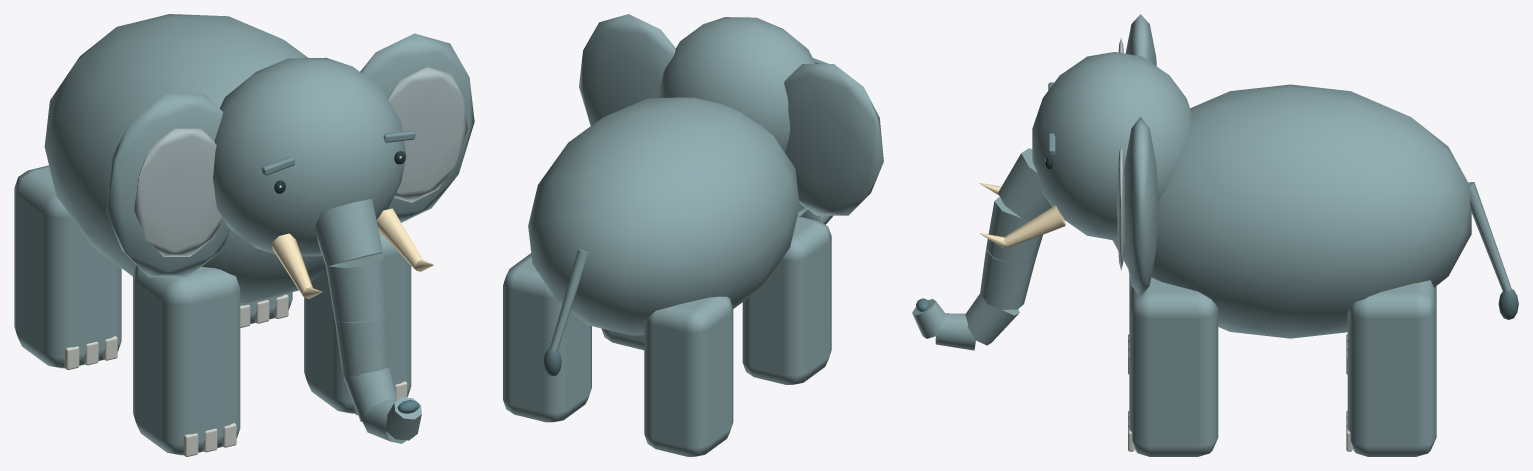
Rendered from elephant.glb.
3 renders of one model, left to right at view 1: azimuth 30°, elevation 25°; view 2: azimuth 150°, elevation 25°; view 3: azimuth 270°, elevation 25°, orthographic. The views are drawn at different scales.
Parts seen in each view (by area): view 1: head, body, leg_-0.49_0.41, inner_ear (×2), leg_-0.49_-0.77, ear (×2), trunk, leg_0.49_0.41, tusk (×2); view 2: body, ear (×2), leg_-0.49_-0.77, head, leg_-0.49_0.41, leg_0.49_-0.77, tail, leg_0.49_0.41, Elephant; view 3: body, head, leg_0.49_0.41, leg_0.49_-0.77, trunk, ear (×2), tail, tusk, inner_ear.
Part boxes in pixels (x1,y1,x2,y2): head: [213, 57, 433, 298]; body: [44, 14, 326, 302]; leg_-0.49_0.41: [133, 265, 240, 455]; inner_ear (×2): [134, 67, 467, 256]; leg_-0.49_-0.77: [14, 165, 121, 368]; ear (×2): [106, 33, 474, 277]; trunk: [315, 198, 421, 443]; leg_0.49_0.41: [304, 231, 411, 413]; tusk (×2): [271, 208, 422, 296]; body: [528, 97, 799, 335]; ear (×2): [579, 14, 883, 215]; leg_-0.49_-0.77: [644, 296, 733, 456]; head: [659, 17, 828, 152]; leg_-0.49_0.41: [742, 216, 831, 384]; leg_0.49_-0.77: [503, 253, 591, 422]; tail: [550, 248, 588, 350]; leg_0.49_0.41: [601, 328, 644, 350]; Elephant: [543, 348, 561, 376]; body: [1112, 84, 1471, 338]; head: [979, 52, 1192, 248]; leg_0.49_0.41: [1129, 277, 1218, 456]; leg_0.49_-0.77: [1347, 280, 1436, 456]; trunk: [912, 148, 1051, 350]; ear (×2): [1124, 14, 1158, 297]; tail: [1467, 182, 1511, 292]; tusk: [1003, 205, 1065, 247]; inner_ear: [1117, 145, 1124, 270].
Bounding box in the file's own units: 2.11 × 2.07 × 3.28.
